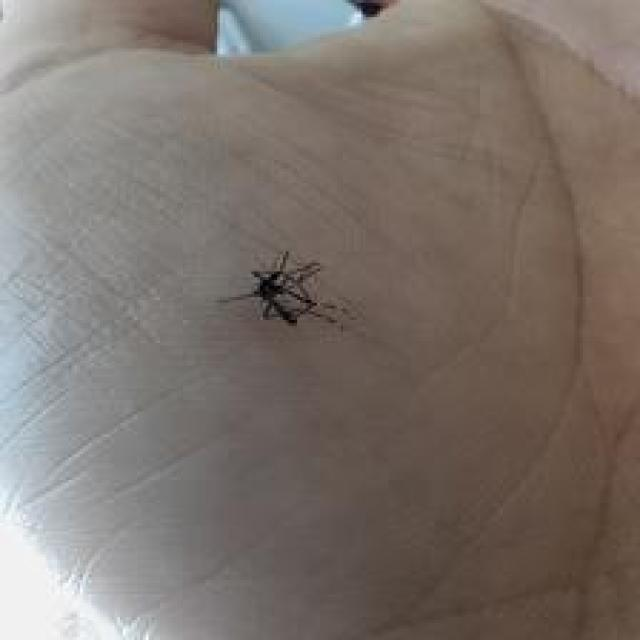Aedes albopictus: (217, 248, 352, 332)
